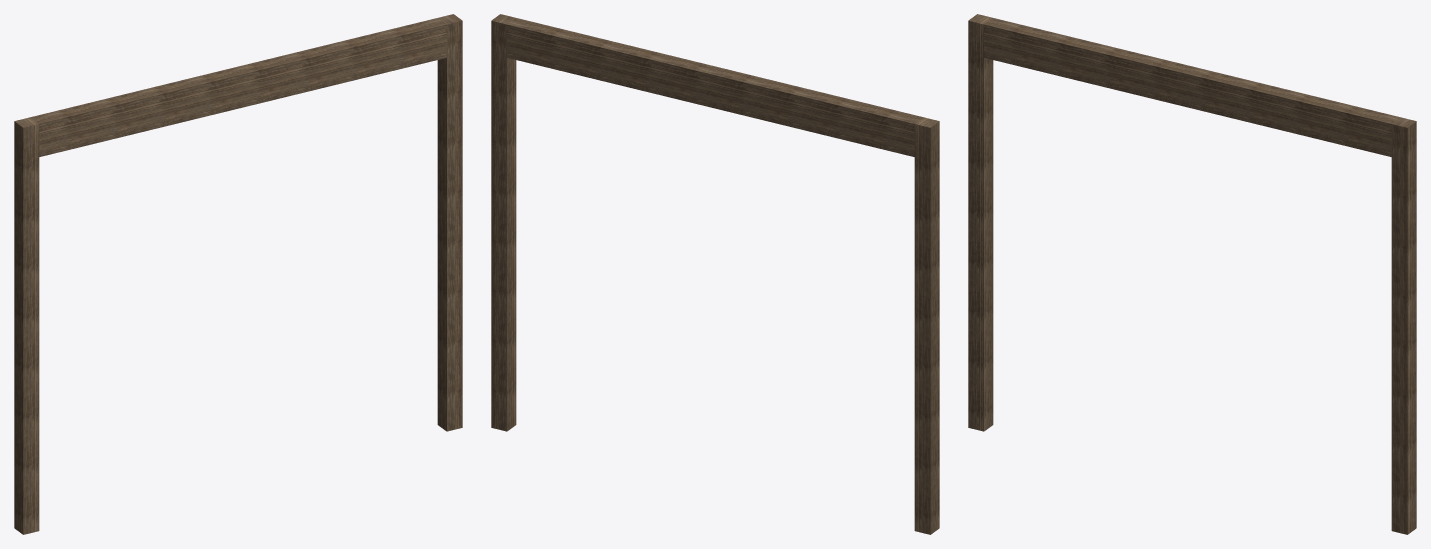
Rendered from hyr-frame_h22-w27_brownebony.fbx.
3 renders of one model, left to right at view 1: azimuth 30°, elevation 25°; view 2: azimuth 150°, elevation 25°; view 3: azimuth 330°, elevation 25°, orthographic.
Parts seen in each view (by area): view 1: hyr-frame_h22-w27_brownebony; view 2: hyr-frame_h22-w27_brownebony; view 3: hyr-frame_h22-w27_brownebony.
Boxes of the visible parts, bbox=[...] form: hyr-frame_h22-w27_brownebony: bbox=[14, 14, 462, 534]; hyr-frame_h22-w27_brownebony: bbox=[491, 14, 939, 534]; hyr-frame_h22-w27_brownebony: bbox=[968, 14, 1416, 534].
Size of the model in its own units: 277 by 245 by 10.
1 material, 1 textured.
